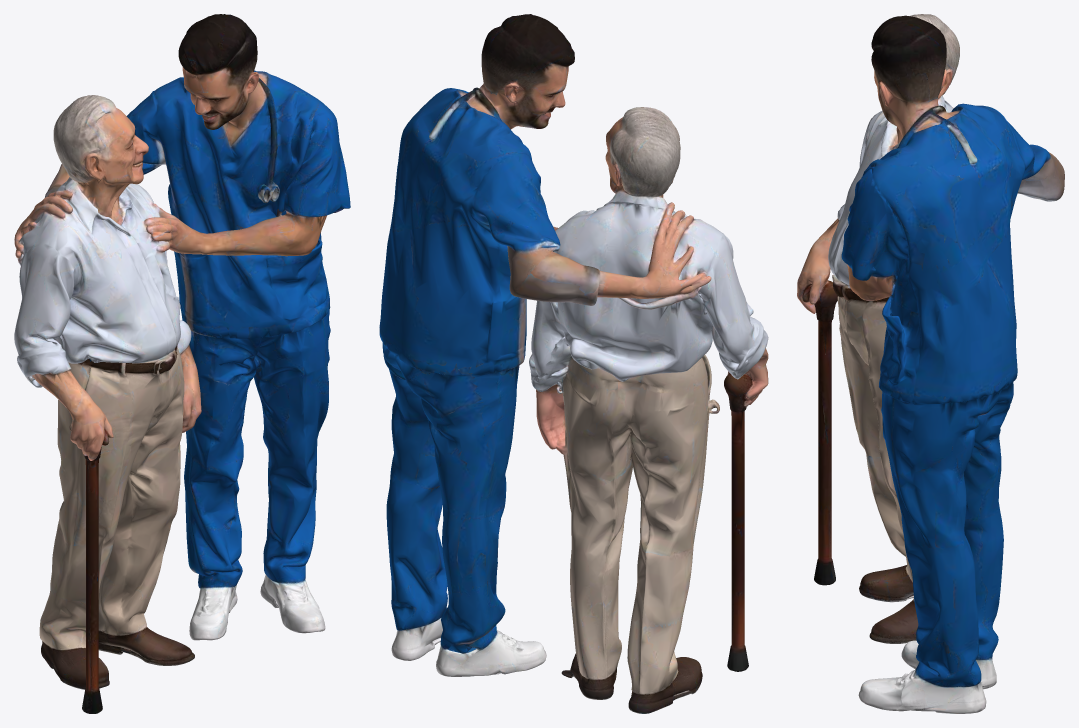
The model's file is model-lite.glb.
3 views of the same model, side by side, from view 1: azimuth 30°, elevation 25°; view 2: azimuth 150°, elevation 25°; view 3: azimuth 270°, elevation 25° (orthographic). The views are drawn at different scales.
Size of the model in its own units: 1.06 by 1.91 by 0.7153.
Materials: 1 (1 with a texture image).
